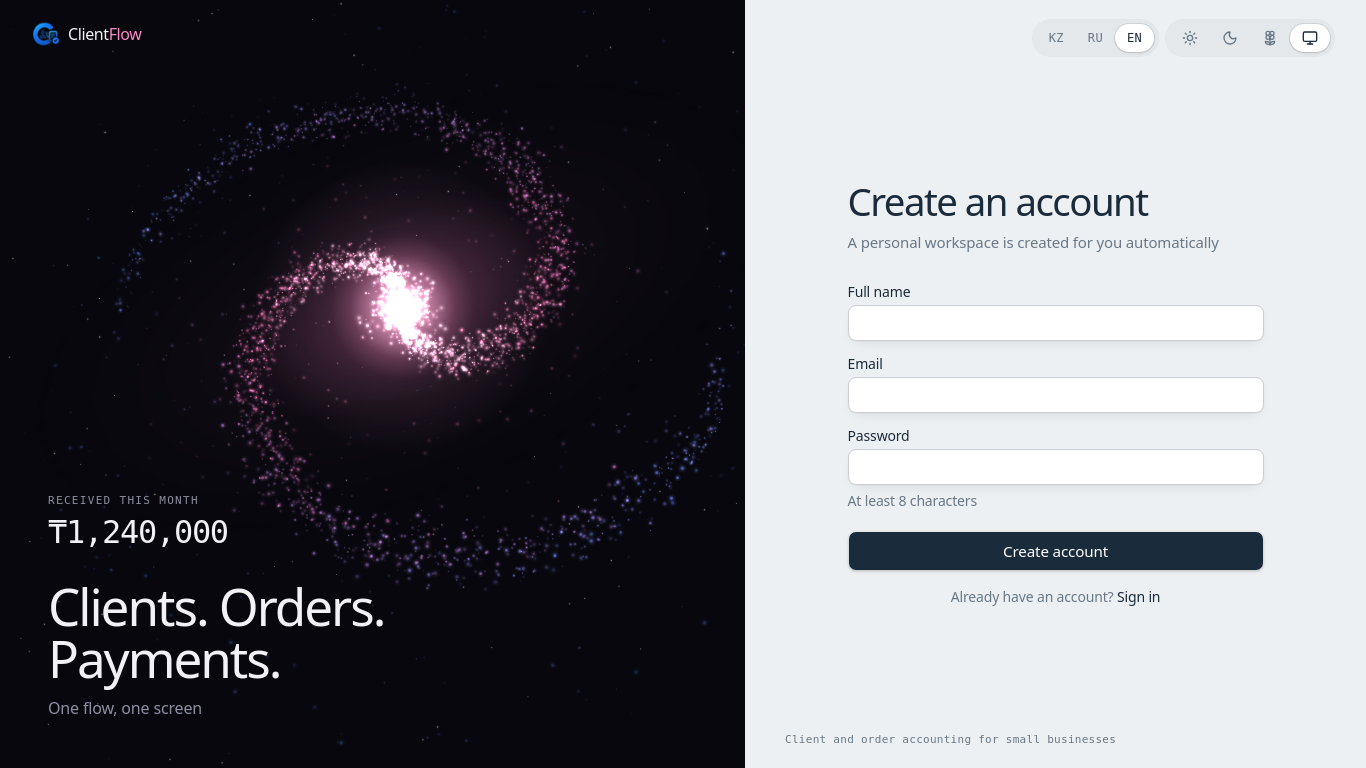
Test: registration › registers with the current interface language and asks to check email
Step 1. Type "Aigerim" into the field labelled "Full name" → (1056, 323), box [848, 305, 1264, 341]
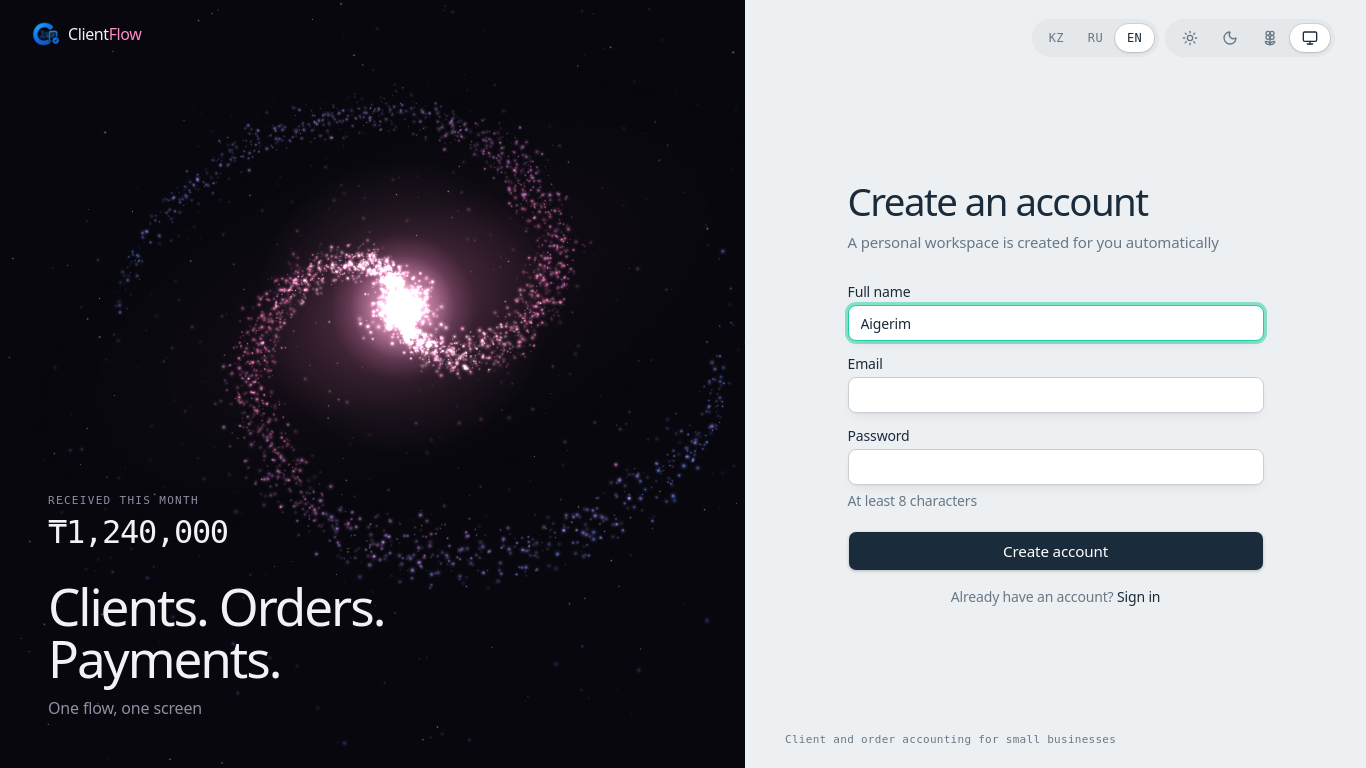
Step 2. Type "aigerim@example.com" into the field labelled "Email" → (1056, 395), box [848, 377, 1264, 413]
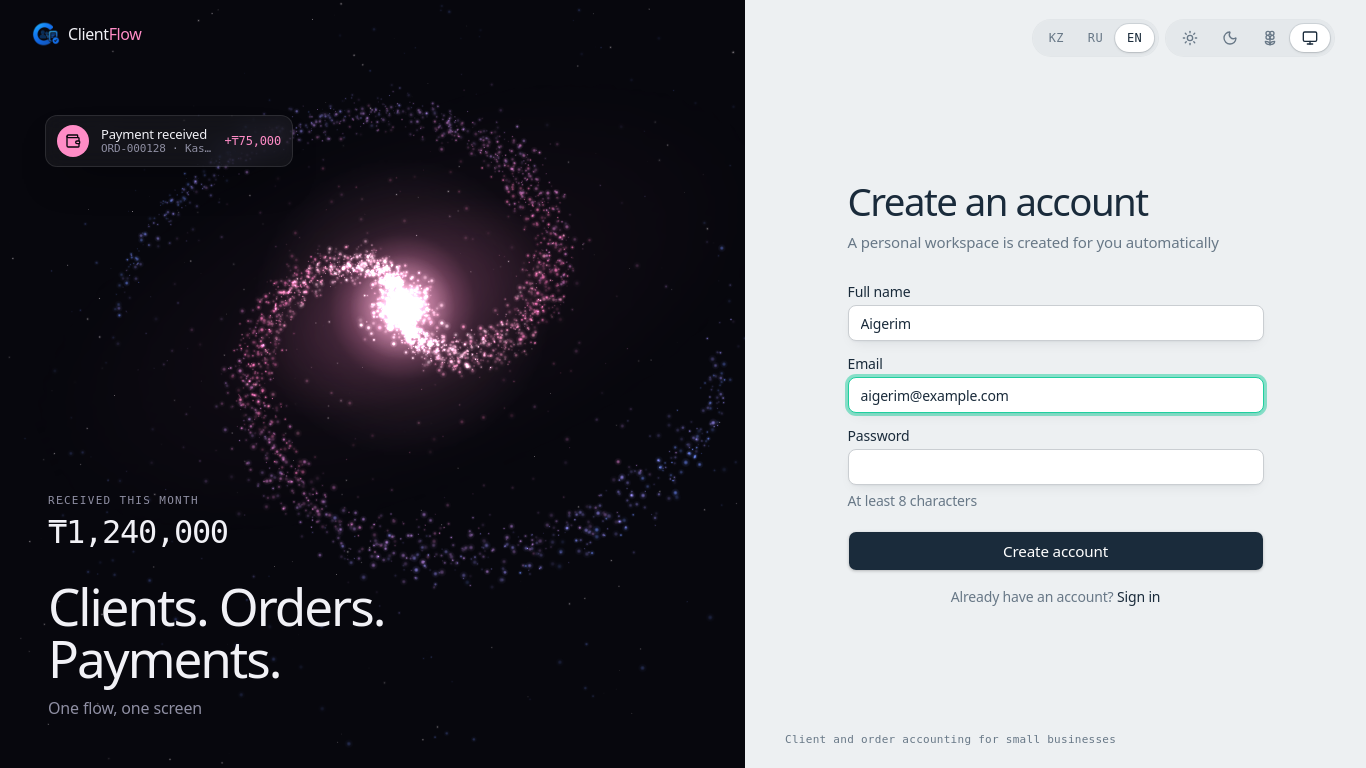
Step 3. Type "Str0ngPassw0rd!" into the password field labelled "Password" → (1056, 467), box [848, 449, 1264, 485]
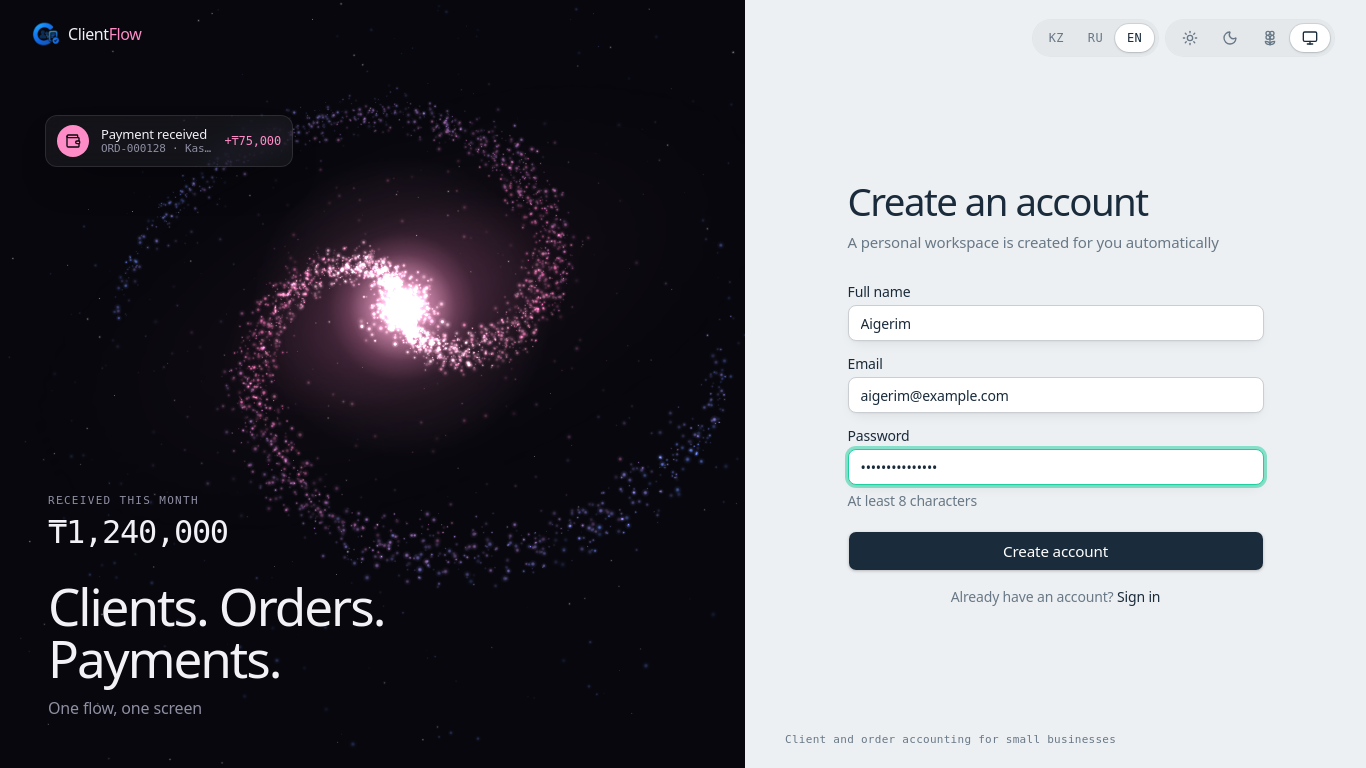
Step 4. Click the button "Create account" → (1056, 551), box [848, 531, 1264, 571]
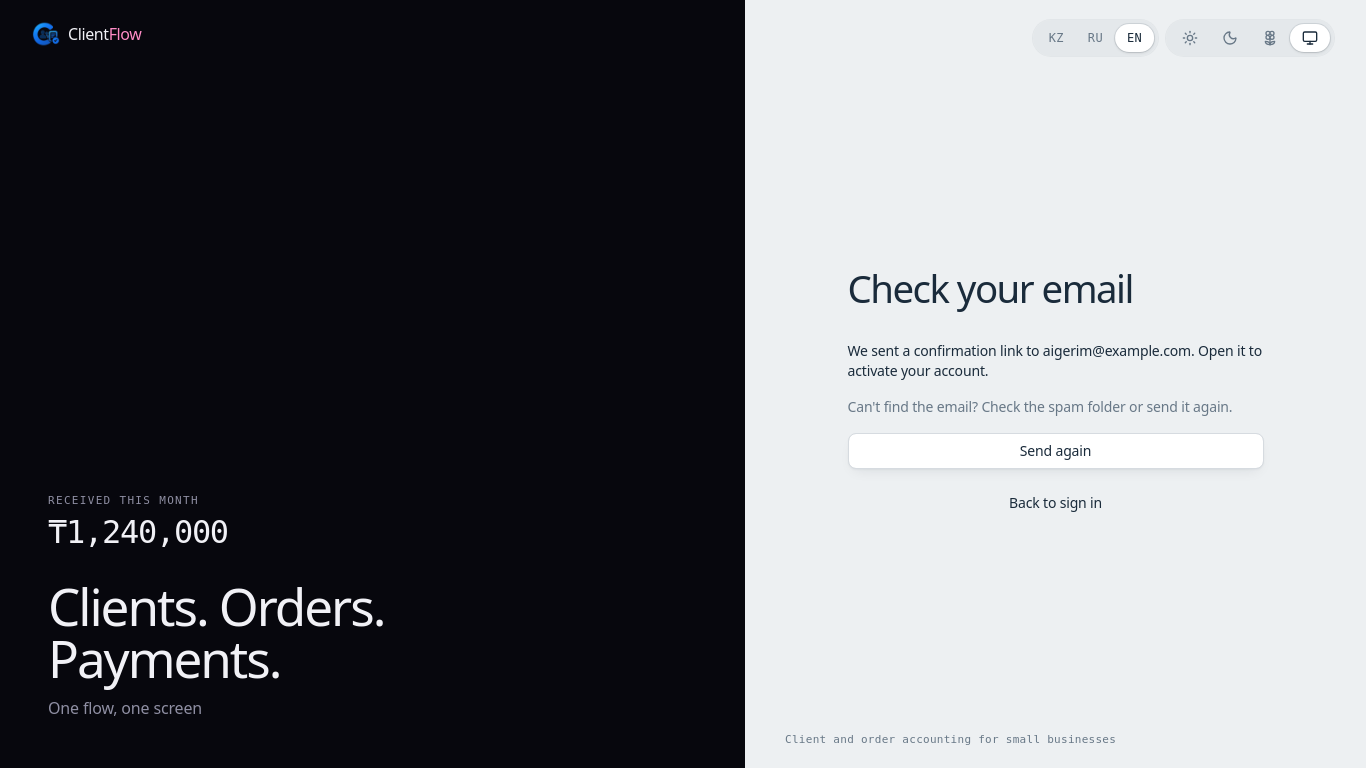
expect the text "We sent a confirmation link to aigerim@example.com" is shown: met, box [848, 341, 1262, 380]
